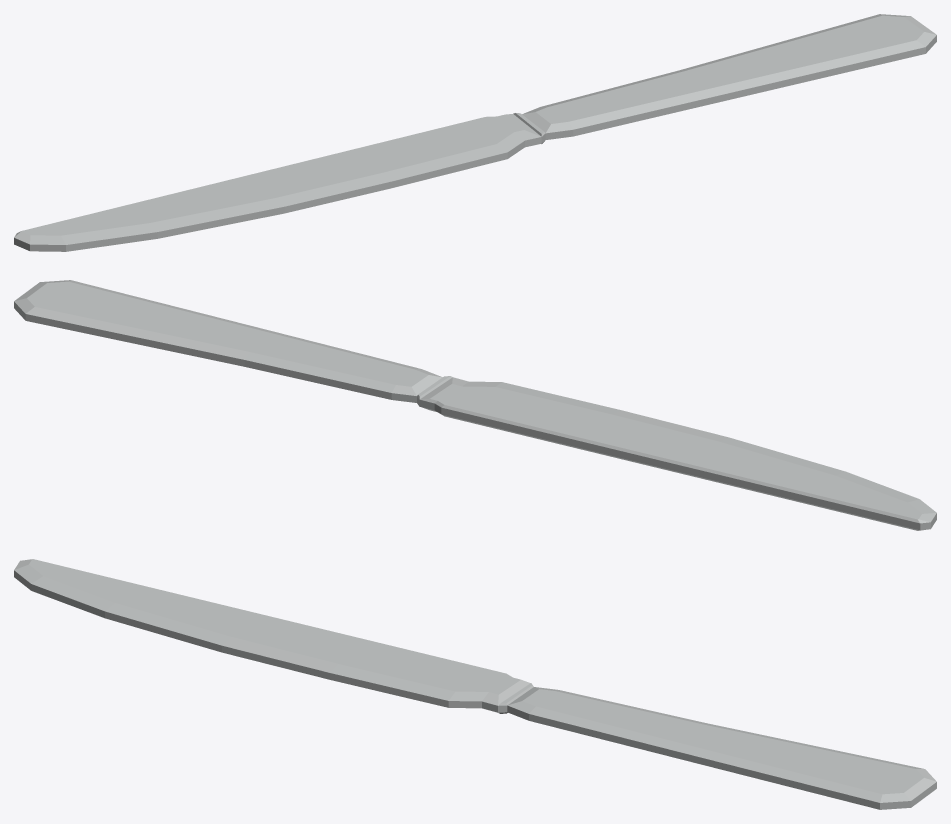
File: Cutlery Knife.fbx
3 renders of one model, top to bottom at view 1: azimuth 30°, elevation 25°; view 2: azimuth 150°, elevation 25°; view 3: azimuth 330°, elevation 25°, orthographic.
Visible parts, largest first — view 1: Line001; view 2: Line001; view 3: Line001.
Boxes of the visible parts, left/top/right/bottom form: Line001: left=14, top=14, right=936, bottom=251; Line001: left=14, top=280, right=936, bottom=530; Line001: left=14, top=559, right=936, bottom=809.
Size of the model in its own units: 28.23 by 0.4144 by 2.69.
1 material, 1 textured.
